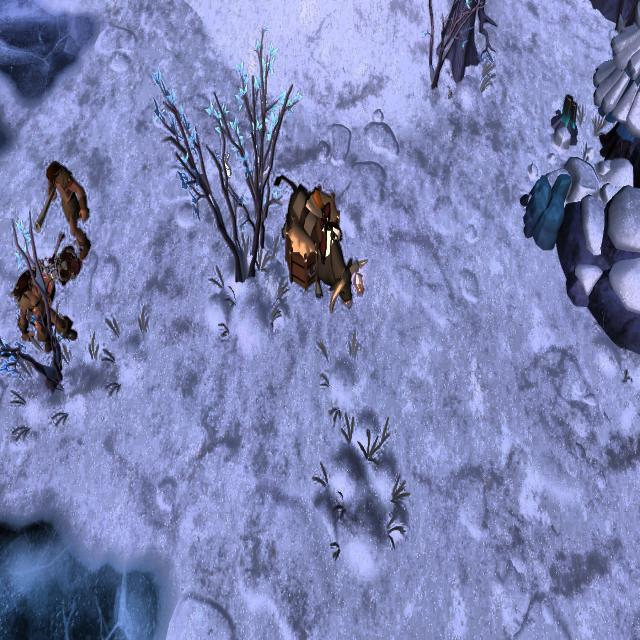enemy_factionKeeper: (48, 143, 96, 263), (14, 267, 76, 359)
ore_t4: (562, 94, 579, 136)
rock_t4: (515, 170, 573, 253)
